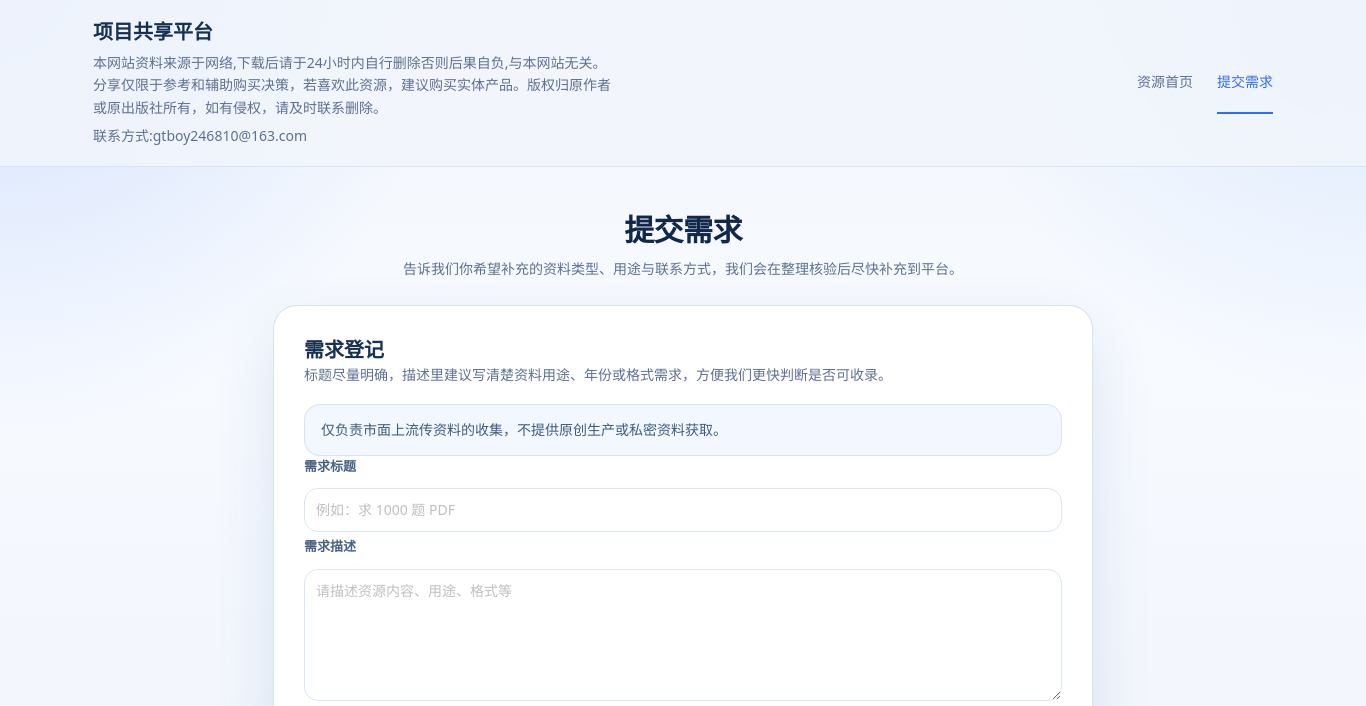
Scenario: app routes › submits request form and shows success page
expect the text "仅负责市面上流传资料的收集，不提供原创生产或私密资料获取。" is shown: met, box [304,404,1062,456]
Type "求资料" into the field named "需求标题". click: (683, 510)
box: [304,488,1062,532]
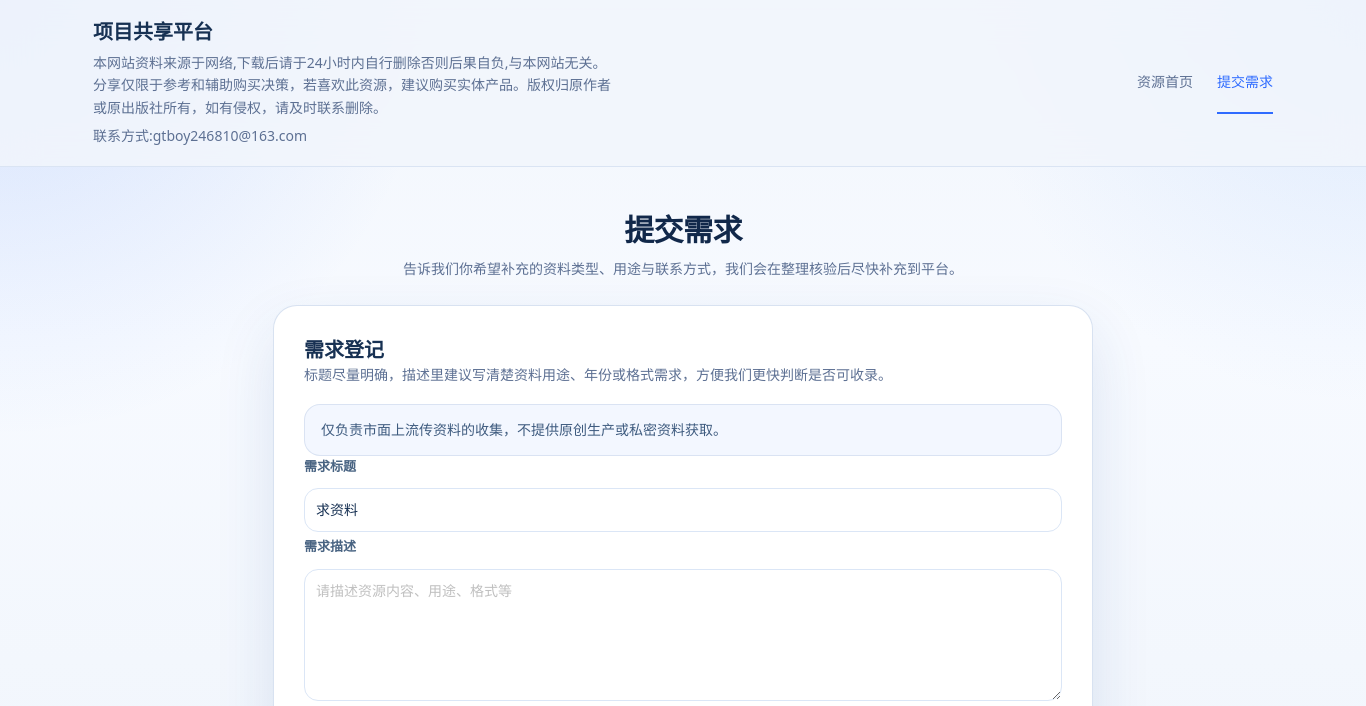
Type "想要红宝书 PDF" into the text box named "需求描述". click: (683, 635)
box: [304,569,1062,701]
(page scrolled)
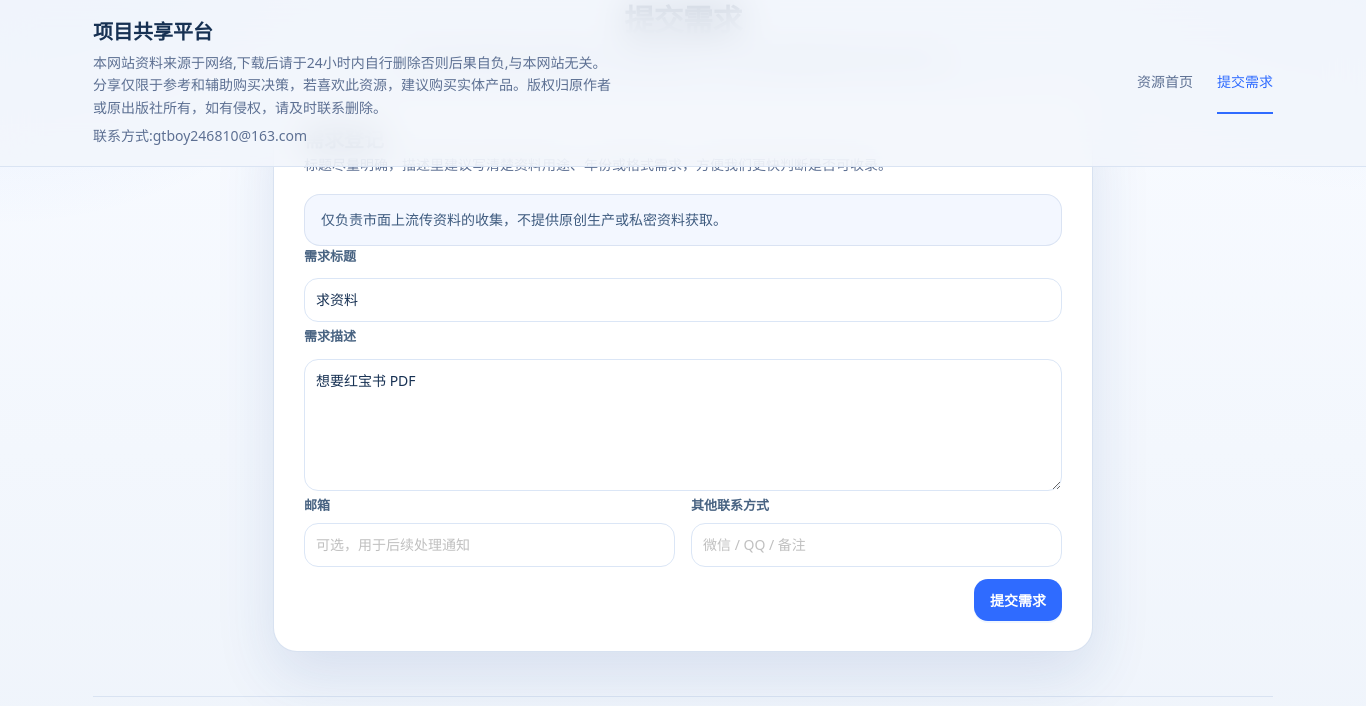
Type "user@example.com" into the field named "邮箱". click: (490, 545)
box: [304,523,675,567]
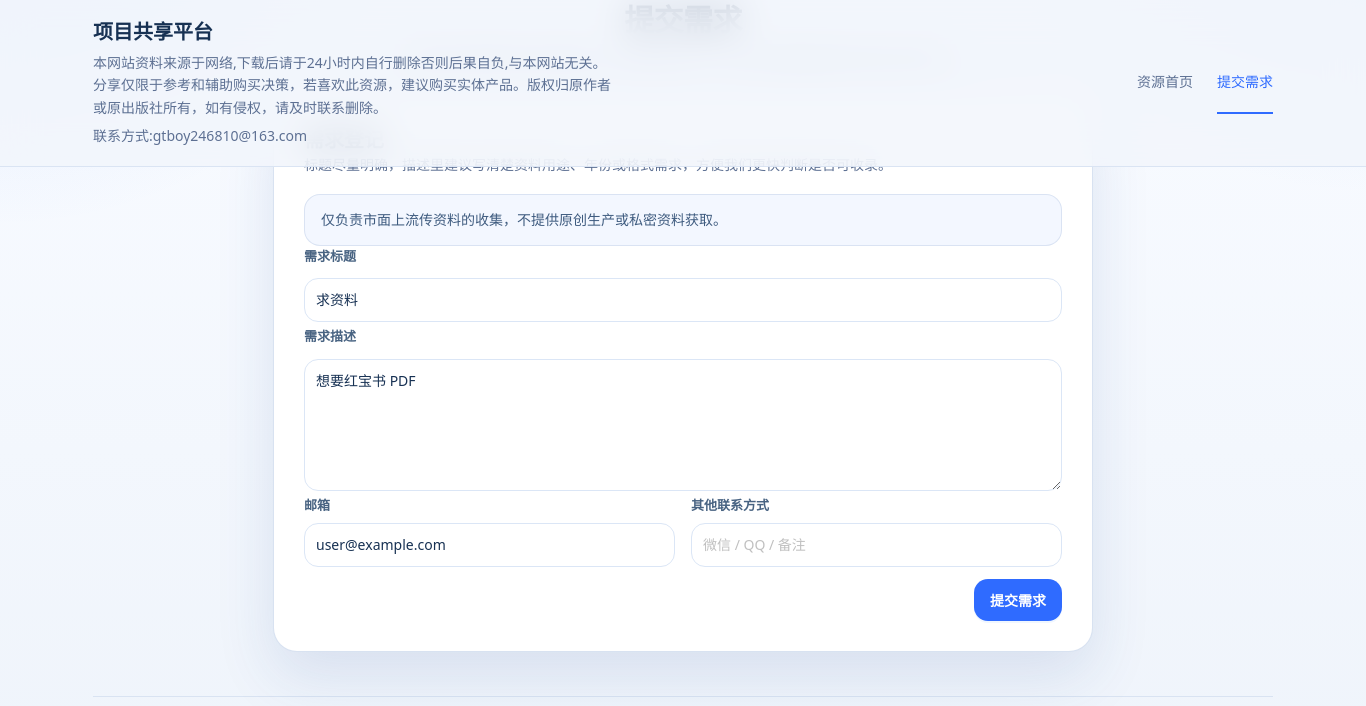
Click the submit button. click: click(1018, 600)
box: [974,579,1062,621]
(page scrolled)
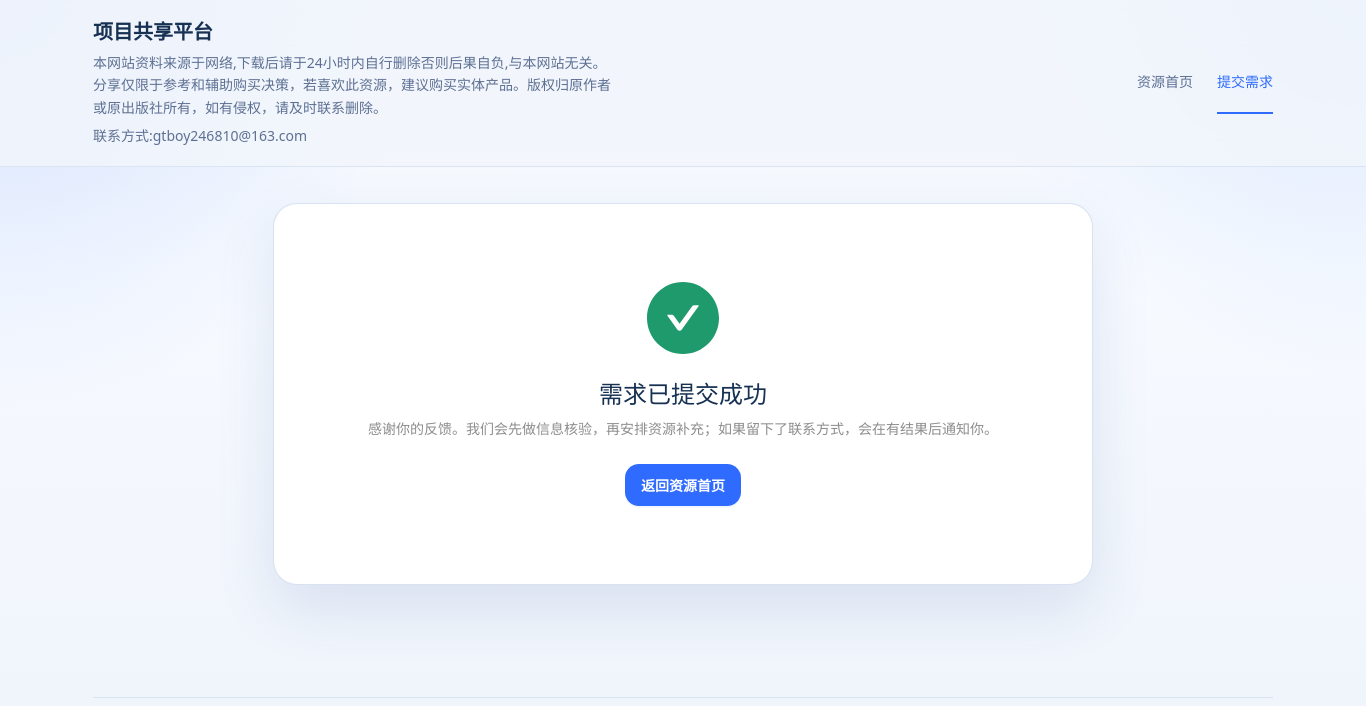
expect the text "需求已提交成功" is shown: met, box [599,377,767,410]
